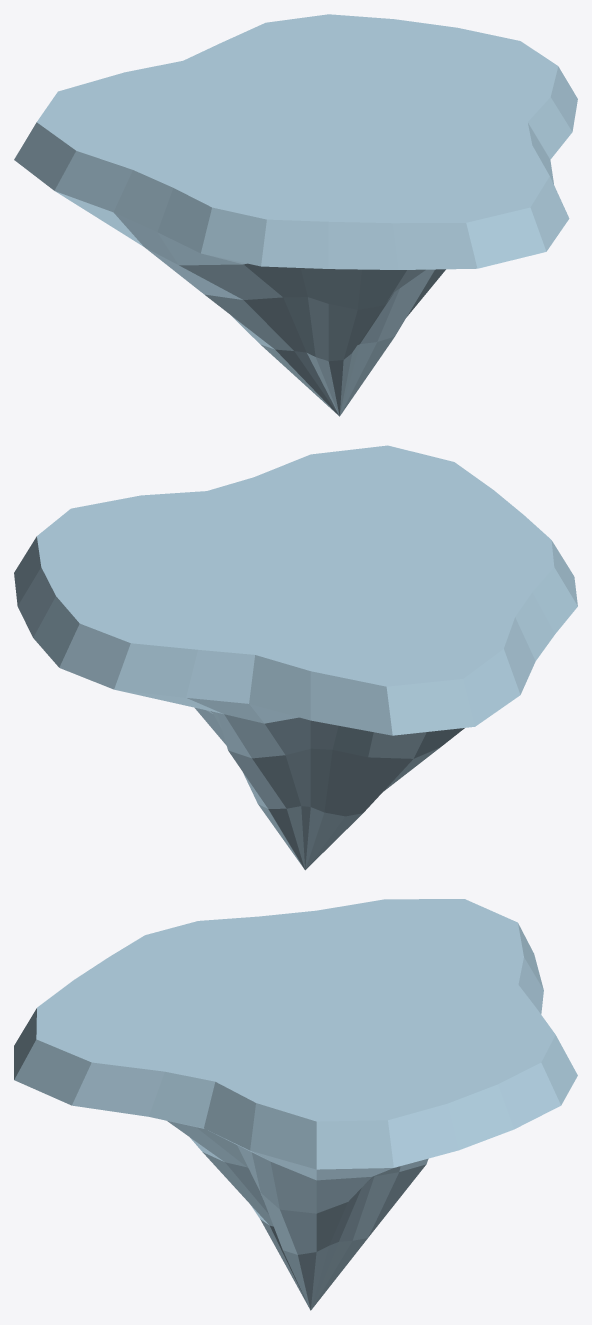
Rendered from cyclone_spire_island.glb.
The picture shows the model from 3 angles, top to bottom: view 1: azimuth 30°, elevation 25°; view 2: azimuth 150°, elevation 25°; view 3: azimuth 270°, elevation 25°; orthographic projection. The views are drawn at different scales.
Visible parts, largest first — view 1: CycloneSpireIsland; view 2: CycloneSpireIsland; view 3: CycloneSpireIsland.
Part boxes in pixels (bbox=[...]): CycloneSpireIsland: bbox=[14, 14, 577, 416]; CycloneSpireIsland: bbox=[14, 445, 577, 870]; CycloneSpireIsland: bbox=[14, 899, 577, 1310].
Size of the model in its own units: 29.76 by 17.2 by 29.38.
Materials: 1 (1 with a texture image).
